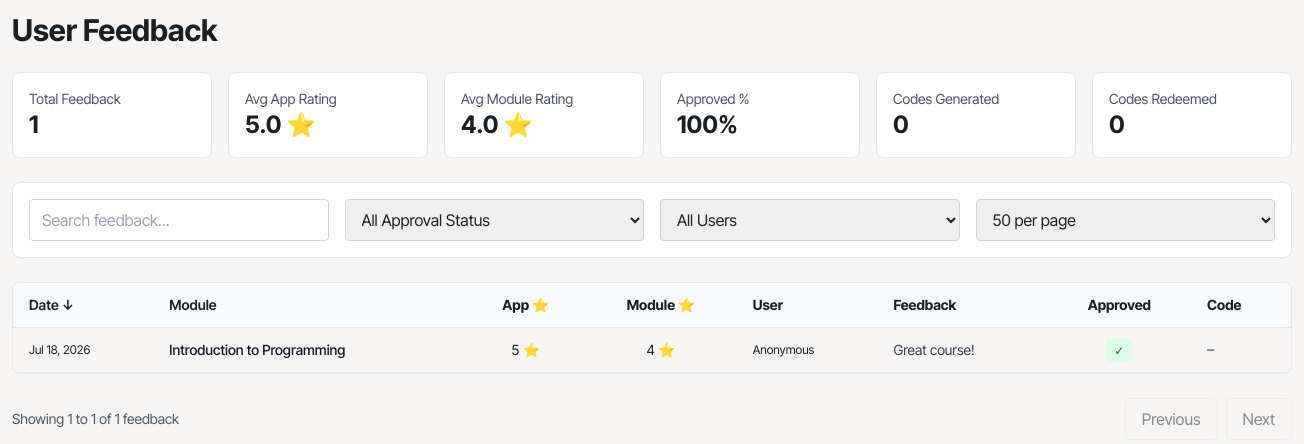
AdminFeedbackPage table polish (GT-15) › ignores a slow earlier response that lands after a newer one
This screenshot has width=1304, height=444.
Expected: the text "Introduction to Programming" is shown, [153, 328, 466, 372]
Click the button "Module": click(193, 305) [169, 295, 217, 315]
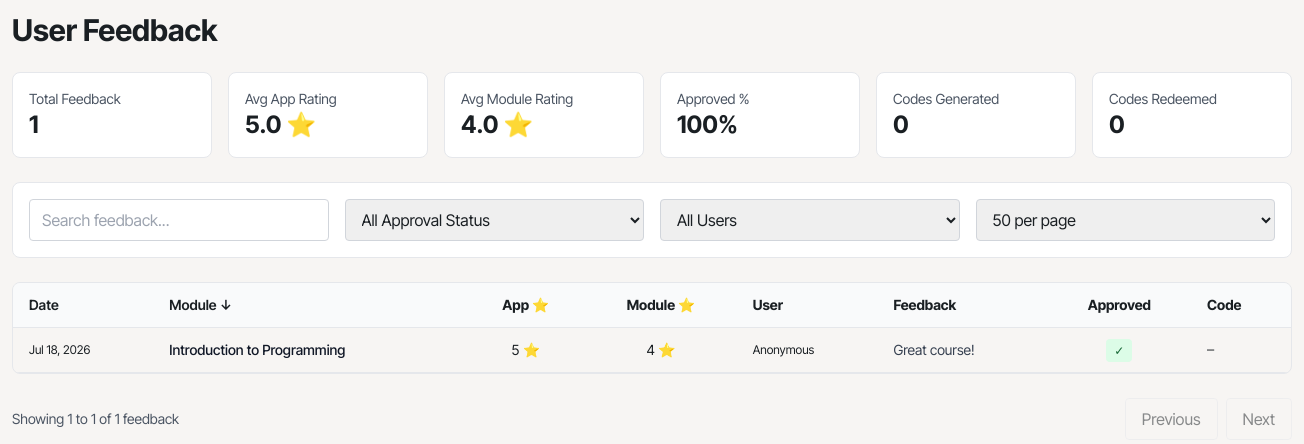
Click the button "Date": click(44, 305) [29, 295, 59, 315]
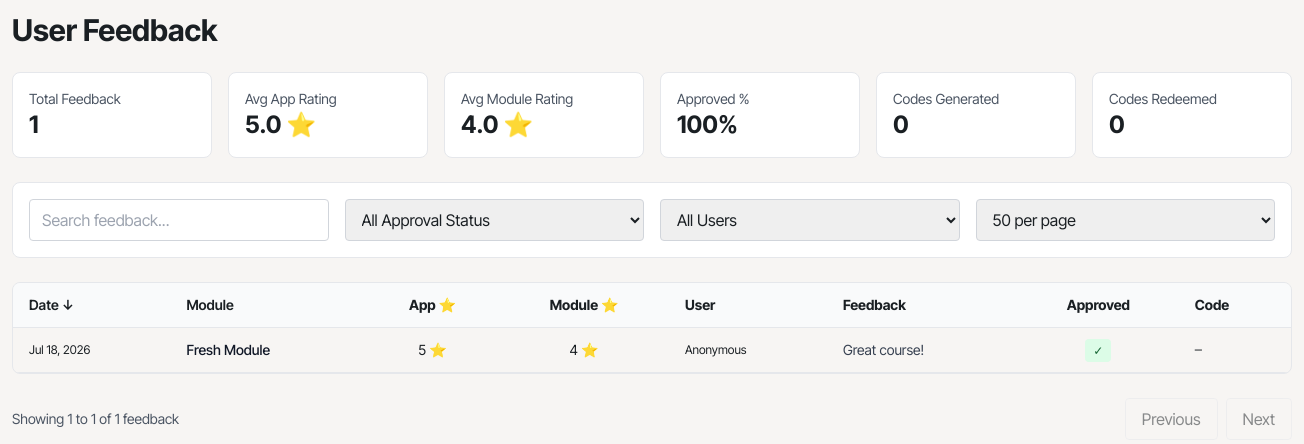
Result: the text "Fresh Module" is shown at [170, 328, 366, 372]
